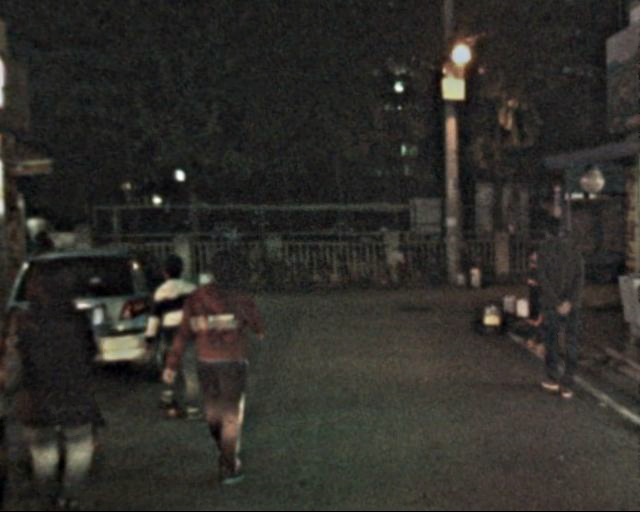person: (18, 249, 116, 510), (171, 243, 264, 483), (520, 208, 591, 412), (135, 243, 202, 429)
